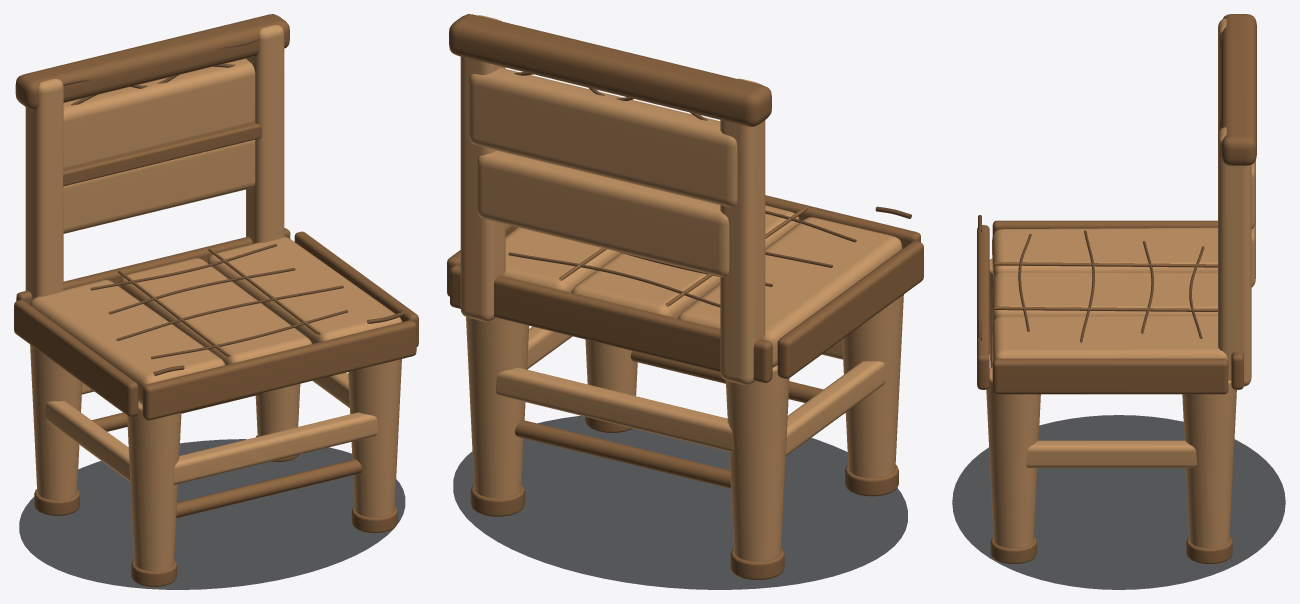
The model's file is tavern-chair.glb.
The picture shows the model from 3 angles, left to right: view 1: azimuth 30°, elevation 25°; view 2: azimuth 150°, elevation 25°; view 3: azimuth 270°, elevation 25°; orthographic projection. The views are drawn at different scales.
Visible parts, largest first — view 1: BASE_BakedSoftContactShadow, PROP_TavernChair_Backrest_UpperBroadPlank, PROP_TavernChair_Seat_FrontDarkWornLip, PROP_TavernChair_Seat_LeftHandhewnPlank, PROP_TavernChair_Backrest_LowerBroadPlank, PROP_TavernChair_Seat_RightHandhewnPlank, PROP_TavernChair_Seat_CenterHandhewnPlank, PROP_TavernChair_Backrest_TopDarkWornCrest, PROP_TavernChair_BackPost_LeftChunky, PROP_TavernChair_FrontLeft_ChunkyTaperedLeg, PROP_TavernChair_BackPost_RightChunky, PROP_TavernChair_FrontRight_ChunkyTaperedLeg (+18 smaller); view 2: BASE_BakedSoftContactShadow, PROP_TavernChair_Backrest_UpperBroadPlank, PROP_TavernChair_Backrest_LowerBroadPlank, PROP_TavernChair_Backrest_TopDarkWornCrest, PROP_TavernChair_Seat_BackDarkWornLip, PROP_TavernChair_Seat_LeftHandhewnPlank, PROP_TavernChair_BackLeft_ChunkyTaperedLeg, PROP_TavernChair_BackPost_LeftChunky, PROP_TavernChair_BackRight_ChunkyTaperedLeg, PROP_TavernChair_BackCrossBrace, PROP_TavernChair_FrontLeft_ChunkyTaperedLeg, PROP_TavernChair_Seat_LeftDarkWornLip (+13 smaller); view 3: BASE_BakedSoftContactShadow, PROP_TavernChair_Seat_RightHandhewnPlank, PROP_TavernChair_Seat_LeftHandhewnPlank, PROP_TavernChair_Seat_CenterHandhewnPlank, PROP_TavernChair_Seat_RightDarkWornLip, PROP_TavernChair_FrontRight_ChunkyTaperedLeg, PROP_TavernChair_BackRight_ChunkyTaperedLeg, PROP_TavernChair_BackPost_RightChunky, PROP_TavernChair_Backrest_TopDarkWornCrest, PROP_TavernChair_RightSideCrossBrace, PROP_TavernChair_Seat_FrontDarkWornLip, PROP_TavernChair_Seat_LeftDarkWornLip (+5 smaller).
Boxes of the visible parts, x1,y1,x2,y2 form: BASE_BakedSoftContactShadow: (19,439,405,589); PROP_TavernChair_Backrest_UpperBroadPlank: (63,58,255,169); PROP_TavernChair_Seat_FrontDarkWornLip: (142,320,416,420); PROP_TavernChair_Seat_LeftHandhewnPlank: (30,280,225,404); PROP_TavernChair_Backrest_LowerBroadPlank: (63,139,255,233); PROP_TavernChair_Seat_RightHandhewnPlank: (207,236,401,343); PROP_TavernChair_Seat_CenterHandhewnPlank: (120,258,311,364); PROP_TavernChair_Backrest_TopDarkWornCrest: (15,14,289,109); PROP_TavernChair_BackPost_LeftChunky: (25,79,63,299); PROP_TavernChair_FrontLeft_ChunkyTaperedLeg: (127,402,181,571); PROP_TavernChair_BackPost_RightChunky: (246,25,284,243); PROP_TavernChair_FrontRight_ChunkyTaperedLeg: (348,359,401,517); BASE_BakedSoftContactShadow: (453,415,907,589); PROP_TavernChair_Backrest_UpperBroadPlank: (469,67,737,207); PROP_TavernChair_Backrest_LowerBroadPlank: (477,150,729,276); PROP_TavernChair_Backrest_TopDarkWornCrest: (449,14,771,126); PROP_TavernChair_Seat_BackDarkWornLip: (450,265,772,382); PROP_TavernChair_Seat_LeftHandhewnPlank: (678,217,902,367); PROP_TavernChair_BackLeft_ChunkyTaperedLeg: (725,365,789,561); PROP_TavernChair_BackPost_LeftChunky: (720,78,765,385); PROP_TavernChair_BackRight_ChunkyTaperedLeg: (466,317,529,498); PROP_TavernChair_BackCrossBrace: (496,367,733,452); PROP_TavernChair_FrontLeft_ChunkyTaperedLeg: (842,294,903,477); PROP_TavernChair_Seat_LeftDarkWornLip: (777,241,923,378); BASE_BakedSoftContactShadow: (952,415,1285,589); PROP_TavernChair_Seat_RightHandhewnPlank: (992,315,1227,360); PROP_TavernChair_Seat_LeftHandhewnPlank: (992,227,1217,280); PROP_TavernChair_Seat_CenterHandhewnPlank: (992,271,1217,325); PROP_TavernChair_Seat_RightDarkWornLip: (992,358,1228,394); PROP_TavernChair_FrontRight_ChunkyTaperedLeg: (986,367,1040,548); PROP_TavernChair_BackRight_ChunkyTaperedLeg: (1182,380,1236,548); PROP_TavernChair_BackPost_RightChunky: (1218,127,1251,386); PROP_TavernChair_Backrest_TopDarkWornCrest: (1221,14,1256,165); PROP_TavernChair_RightSideCrossBrace: (1026,440,1197,467); PROP_TavernChair_Seat_FrontDarkWornLip: (977,225,989,389); PROP_TavernChair_Seat_LeftDarkWornLip: (992,220,1217,235).
Bounding box in the file's own units: 0.966 × 1.12 × 0.7912.
